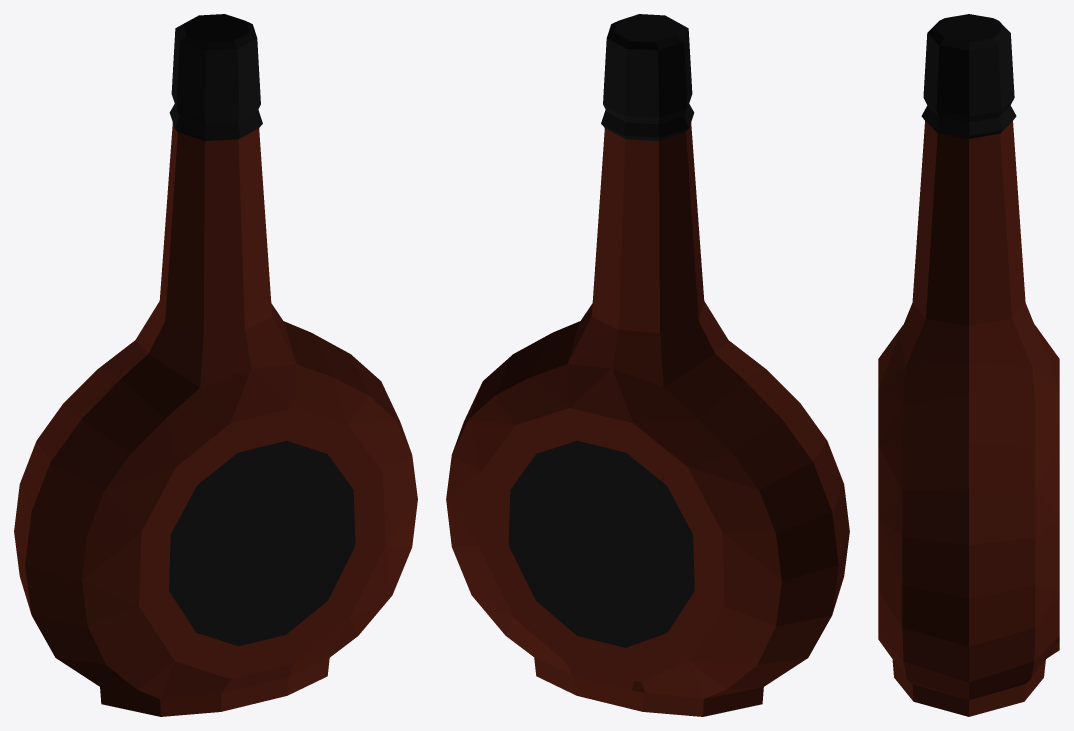
File: Wine 20.fbx
3 views of the same model, side by side, from view 1: azimuth 30°, elevation 25°; view 2: azimuth 150°, elevation 25°; view 3: azimuth 270°, elevation 25° (orthographic). The views are drawn at different scales.
Parts seen in each view (by area): view 1: Node 0; view 2: Node 0; view 3: Node 0.
Part boxes in pixels (x1,y1,x2,y2): Node 0: (14,14,417,716); Node 0: (446,14,849,716); Node 0: (878,14,1059,716).
Bounding box in the file's own units: 0.0594 × 0.2291 × 0.1412.
